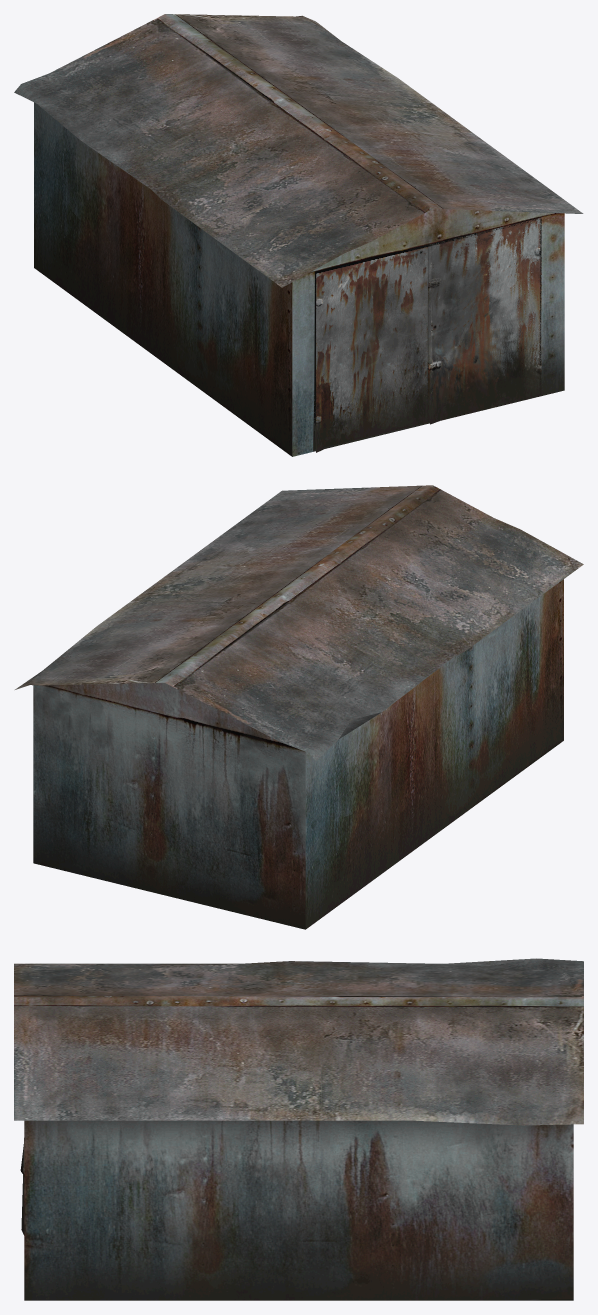
Rendered from garage001.FBX.
3 renders of one model, top to bottom at view 1: azimuth 30°, elevation 25°; view 2: azimuth 150°, elevation 25°; view 3: azimuth 270°, elevation 25°, orthographic. The views are drawn at different scales.
Parts seen in each view (by area): view 1: garaj2; view 2: garaj2; view 3: garaj2.
Boxes of the visible parts, <box> form: garaj2: <box>14,14,583,456</box>; garaj2: <box>15,485,583,929</box>; garaj2: <box>14,958,583,1300</box>.
Bounding box in the file's own units: 116 × 80.27 × 178.
